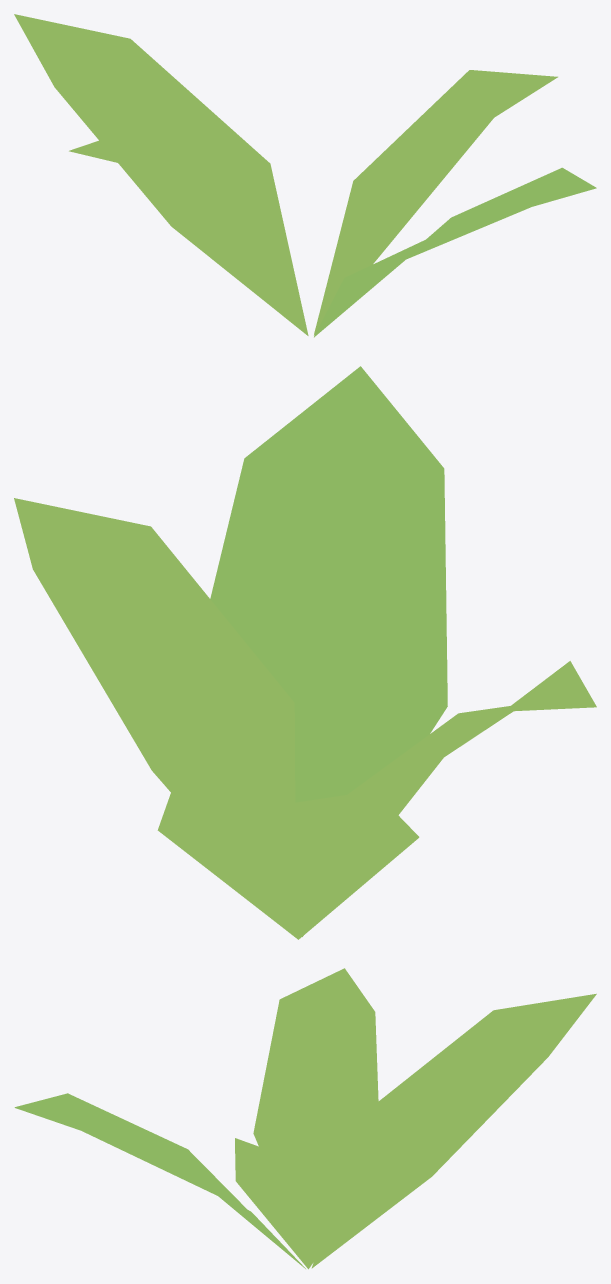
Rendered from Plant_k_TwoS_03.fbx.
3 views of the same model, one above another, from view 1: azimuth 30°, elevation 25°; view 2: azimuth 150°, elevation 25°; view 3: azimuth 270°, elevation 25° (orthographic). The views are drawn at different scales.
Parts seen in each view (by area): view 1: Plant_k_TwoS_03; view 2: Plant_k_TwoS_03; view 3: Plant_k_TwoS_03.
Boxes of the visible parts, x1,y1,x2,y2 form: Plant_k_TwoS_03: (14, 14, 596, 337); Plant_k_TwoS_03: (14, 366, 596, 939); Plant_k_TwoS_03: (14, 968, 596, 1269).
Bounding box in the file's own units: 0.29 × 0.1497 × 0.3672.
